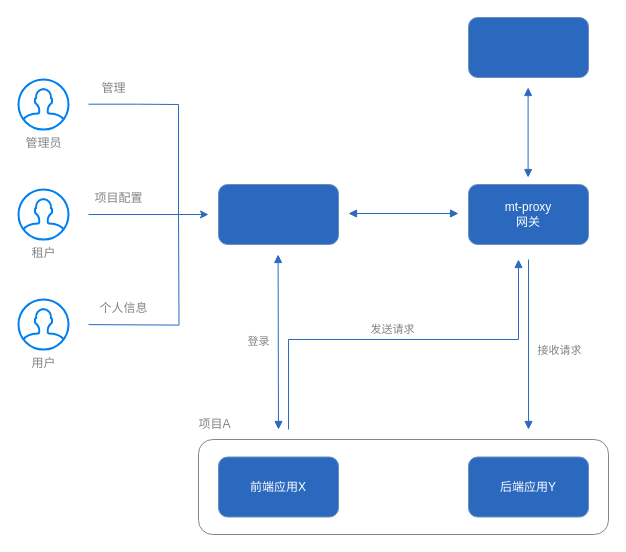
This 626x552 diagram has some shape labels left out. Here are the shapes that lost their labels. From the top down, the box of each, then its label:
(468, 16, 588, 78): mt-access 服务端
(218, 184, 338, 244): mt-ui 客户端
